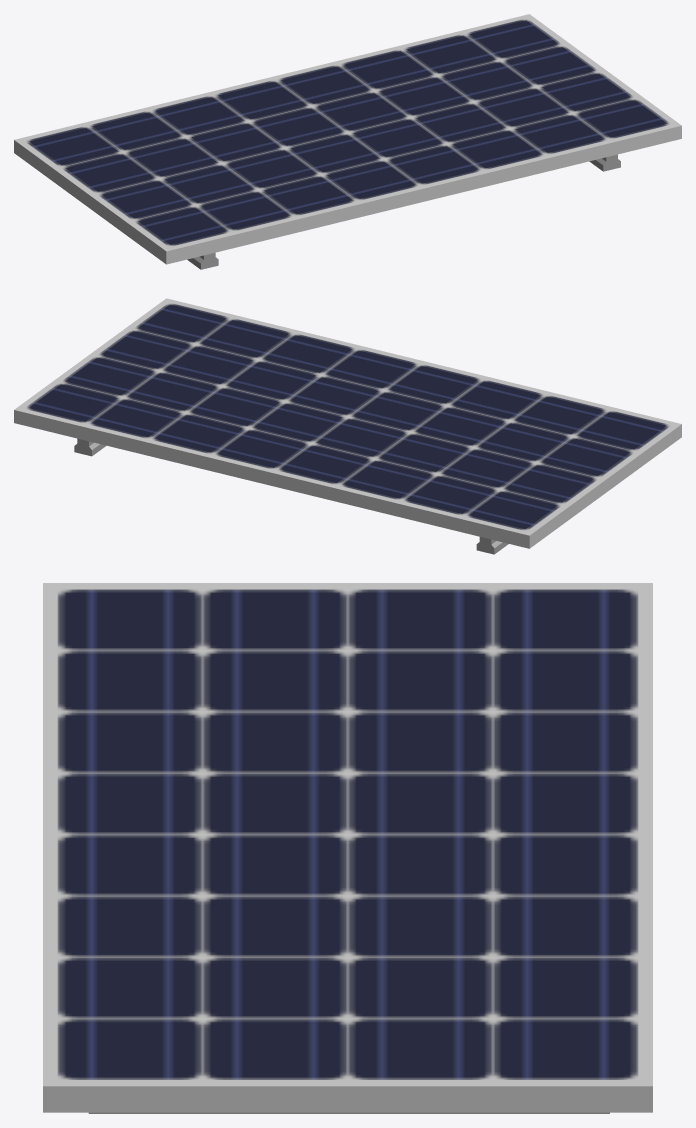
File: SM_Props_Suburb_Solar_02.fbx
3 views of the same model, one above another, from view 1: azimuth 30°, elevation 25°; view 2: azimuth 150°, elevation 25°; view 3: azimuth 270°, elevation 25° (orthographic). The views are drawn at different scales.
Visible parts, largest first — view 1: SM_Props_Suburb_Solar_02; view 2: SM_Props_Suburb_Solar_02; view 3: SM_Props_Suburb_Solar_02.
Boxes of the visible parts, box(x1,y1,x2,y2) form: SM_Props_Suburb_Solar_02: box(14, 14, 681, 269); SM_Props_Suburb_Solar_02: box(14, 298, 681, 554); SM_Props_Suburb_Solar_02: box(43, 583, 652, 1113).
Bounding box in the file's own units: 205 × 14.45 × 105.
